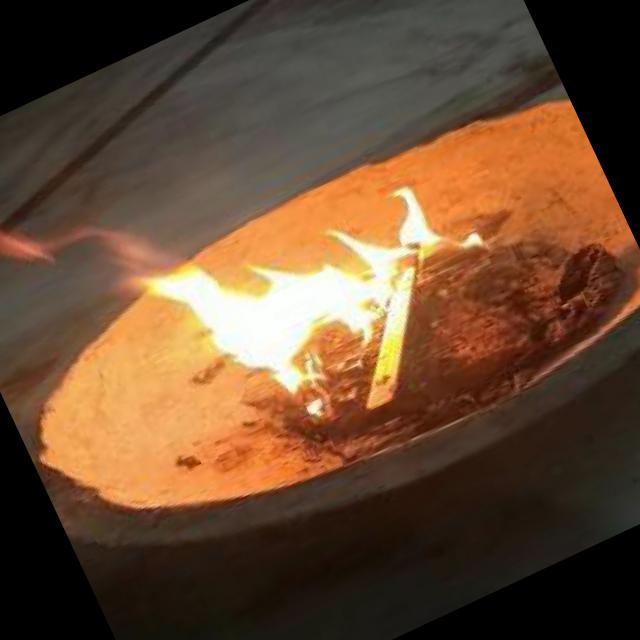fire: (61, 93, 502, 457)
